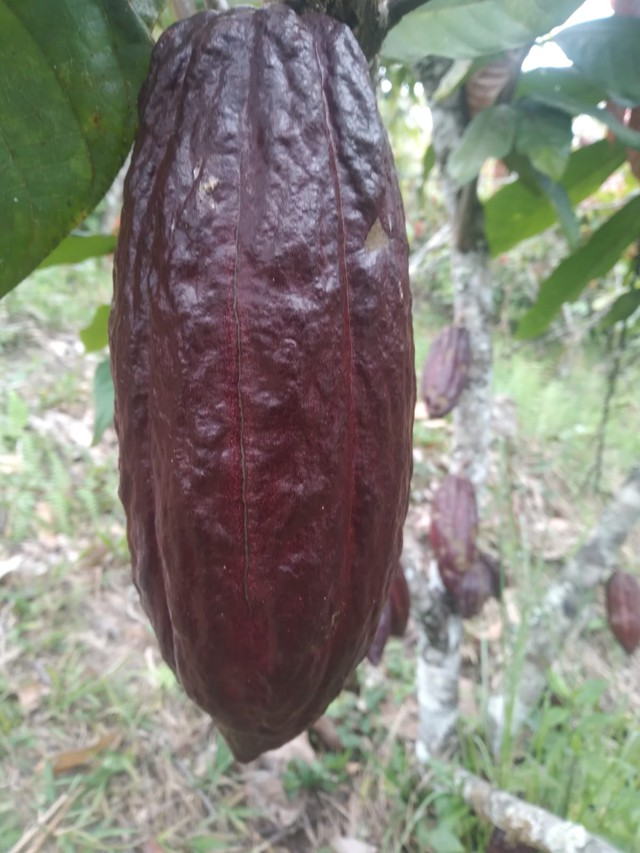Health: (92, 1, 430, 774)
